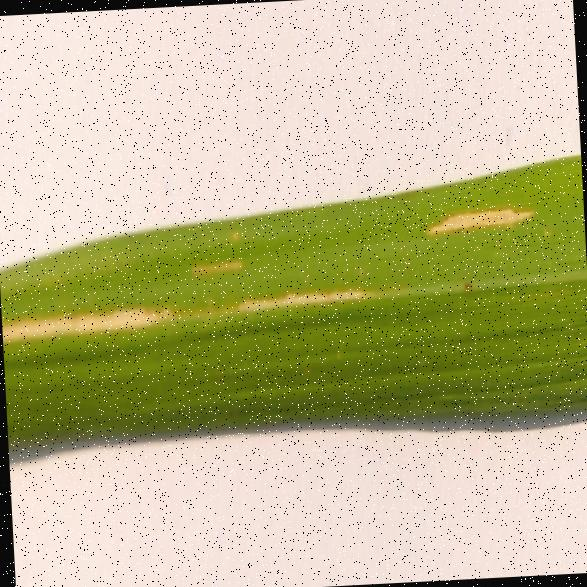Bacteria_Leaf_Blight: (1, 278, 398, 342), (420, 184, 552, 266)
